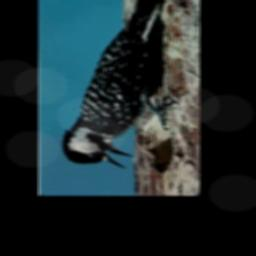Woodpecker: (57, 0, 180, 172)
